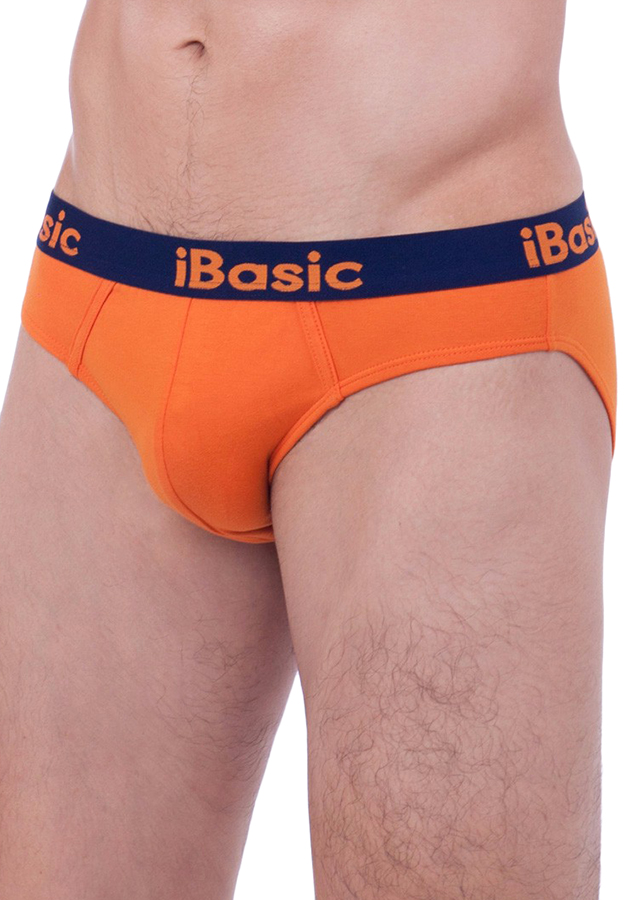iBasic: (153, 234, 377, 305)
